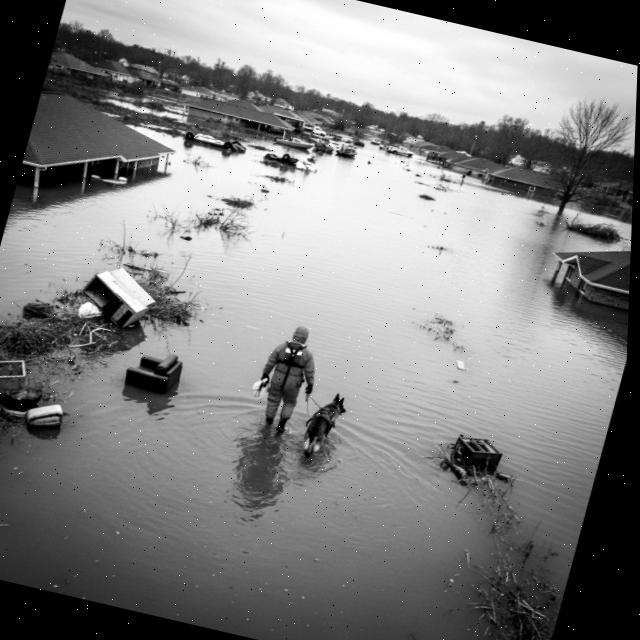dog: (291, 380, 357, 464)
rescuer: (241, 312, 334, 438)
